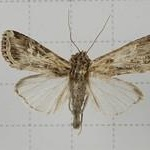Spodoptera litura: (1, 8, 149, 135)
